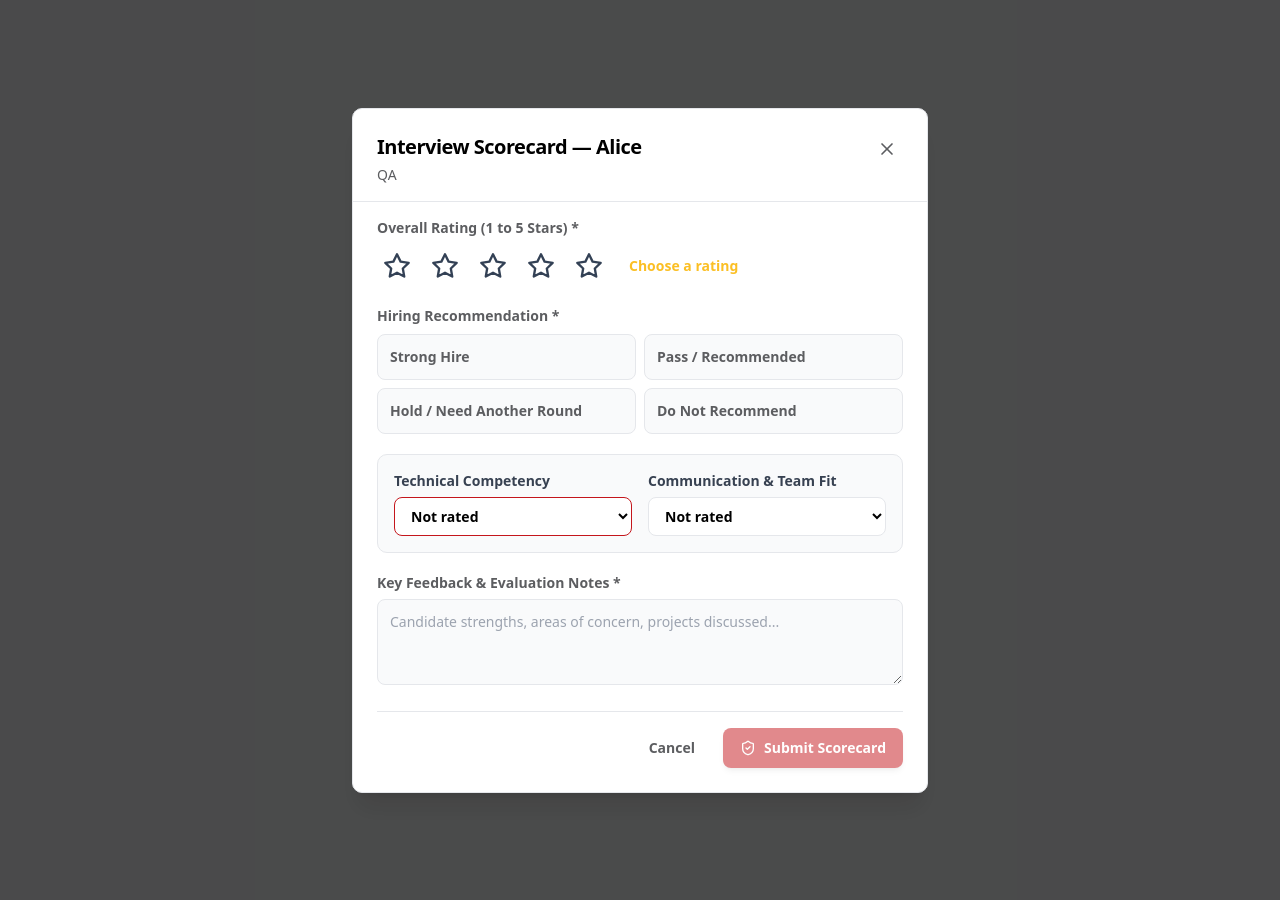
Test: Feedback rating vs recommendation › does not ask for an explanation when rating and recommendation agree
Expected: the button "Submit Scorecard" is disabled, top-left (723, 728), bottom-right (903, 768)
Click the button named "4 stars".
click(541, 266)  # box top-left (521, 246), bottom-right (561, 286)
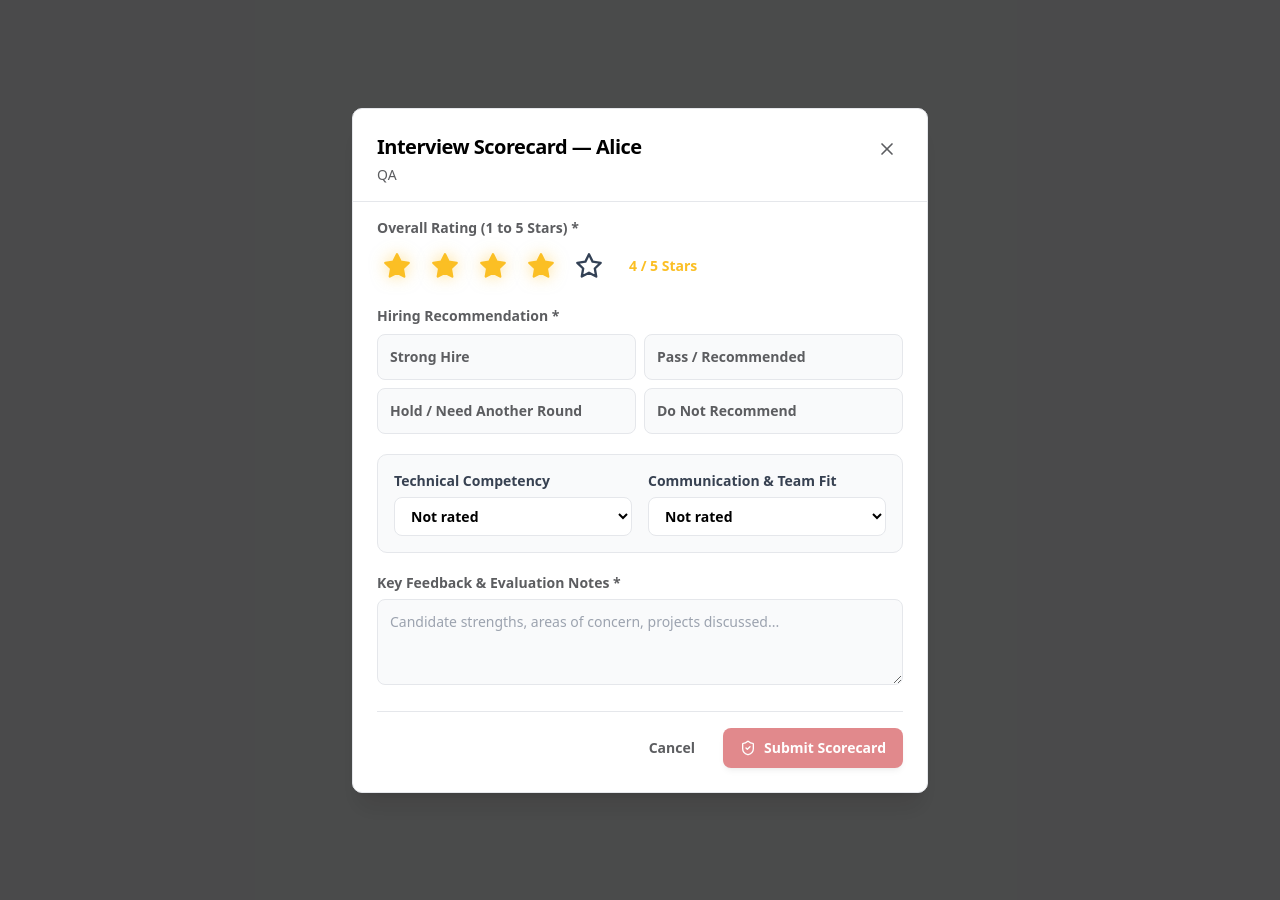
Click the button "Pass / Recommended".
click(774, 356)  # box top-left (644, 334), bottom-right (903, 380)
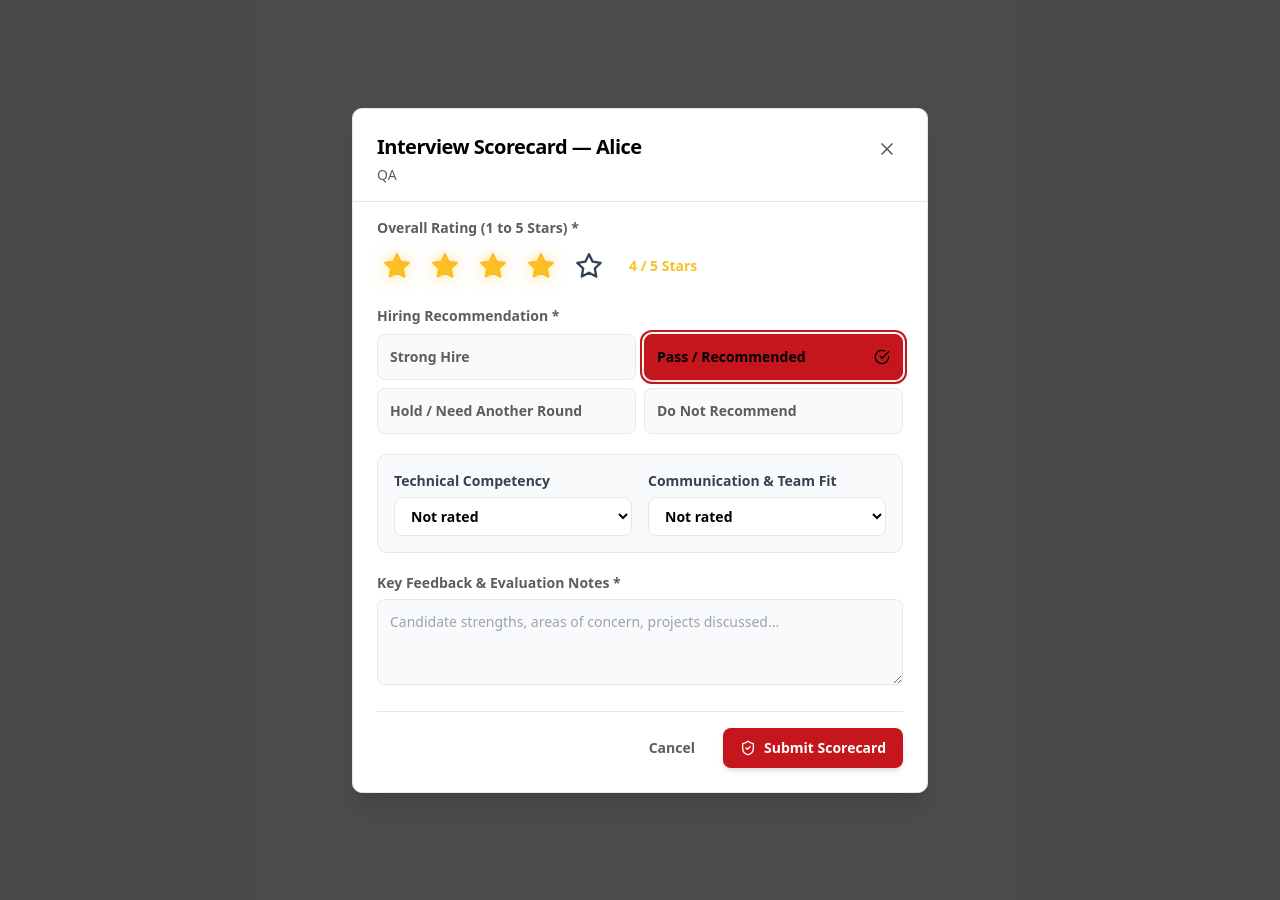
Result: the button "Submit Scorecard" is enabled at top-left (723, 728), bottom-right (903, 768)
